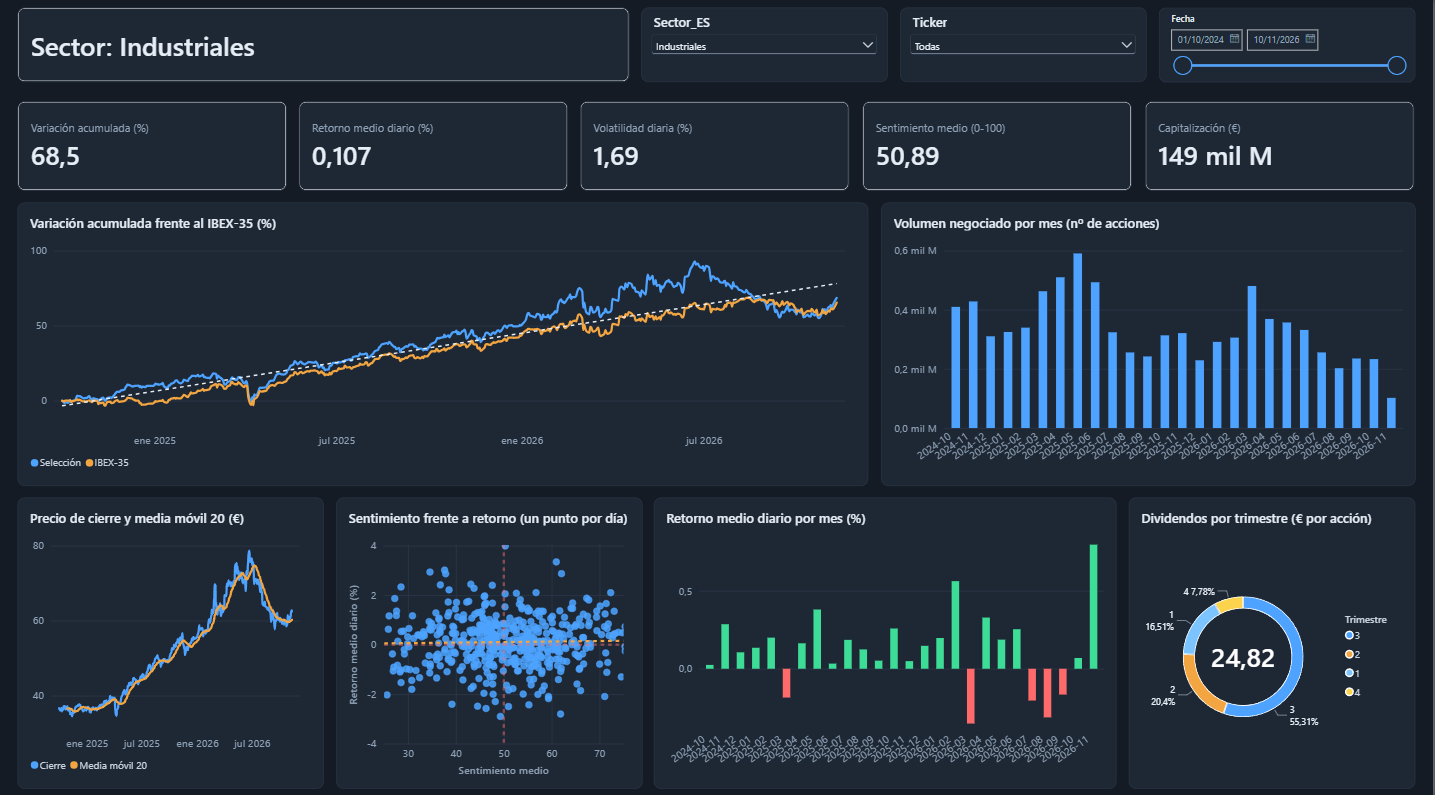

The dashboard page shown, as its layout file describes it:
{"tool":"powerbi","page":{"name":"Dashboard","canvas":[1920,1080],"ordinal":3},"visuals":[{"type":"slicer","fields":{"Values":["Empresa.Sector_ES"]},"box":[753.5,31.4,280.8,68],"z":0},{"type":"slicer","fields":{"Values":["Empresa.Ticker"]},"box":[1055.2,26.2,280.8,80.2],"z":1000},{"type":"slicer","fields":{"Values":["Fecha.Fecha"]},"box":[1360.5,19.2,280.8,95.9],"z":2000},{"type":"cardVisual","fields":{"Data":["Hechos.Variacion Acumulada"]},"box":[36.6,115.1,218,174.4],"z":3000},{"type":"cardVisual","fields":{"Data":["Hechos.Retorno Medio Diario"]},"box":[375,115.1,218,174.4],"z":4000},{"type":"cardVisual","fields":{"Data":["Hechos.Volatilidad Diaria"]},"box":[741.3,115.1,218,174.4],"z":5000},{"type":"cardVisual","fields":{"Data":["Hechos.Sentimiento Medio"]},"box":[1088.4,115.1,218,174.4],"z":6000},{"type":"cardVisual","fields":{"Data":["Hechos.Capitalizacion Total"]},"box":[1447.7,115.1,218,174.4],"z":7000},{"type":"lineChart","fields":{"Category":["Fecha.Fecha"],"Y":["Hechos.Var Acum Seleccion","Hechos.Var Acum IBEX"]},"box":[43.6,314,1058.7,376.7],"z":8000},{"type":"clusteredColumnChart","fields":{"Category":["Fecha.AnioMes"],"Y":["Sum(Hechos.Volume)"]},"box":[1133.7,314,736,376.7],"z":9000},{"type":"lineChart","fields":{"Category":["Fecha.Fecha"],"Y":["Avg(Hechos.Close)","Avg(Hechos.Media_Movil_20)"]},"box":[66.3,711.6,395.9,322.7],"z":10000},{"type":"scatterChart","fields":{"Category":["Fecha.Fecha"],"X":["Hechos.Sentimiento Medio"],"Y":["Hechos.Retorno Medio Diario"]},"box":[462.2,711.6,444.8,322.7],"z":11000},{"type":"clusteredColumnChart","fields":{"Category":["Fecha.AnioMes"],"Y":["Hechos.Retorno Medio Diario"]},"box":[907,711.6,610.5,322.7],"z":12000},{"type":"donutChart","fields":{"Category":["Fecha.Trimestre"],"Y":["Sum(Hechos.Dividends)"]},"box":[1517.4,711.6,385.5,322.7],"z":13000},{"type":"cardVisual","fields":{"Data":["Hechos.Titulo Dashboard"]},"box":[66.3,19.2,556.4,75],"z":13001}]}

Visuals, with their boxes in screenshot pixels (x1, y1, x2, y2), scaled from the page's 1920x1080 canvas onto the 1435x795 screenshot:
slicer - Empresa.Sector_ES: box(563, 23, 773, 73)
slicer - Empresa.Ticker: box(789, 19, 999, 78)
slicer - Fecha.Fecha: box(1017, 14, 1227, 85)
cardVisual - Hechos.Variacion Acumulada: box(27, 85, 190, 213)
cardVisual - Hechos.Retorno Medio Diario: box(280, 85, 443, 213)
cardVisual - Hechos.Volatilidad Diaria: box(554, 85, 717, 213)
cardVisual - Hechos.Sentimiento Medio: box(813, 85, 976, 213)
cardVisual - Hechos.Capitalizacion Total: box(1082, 85, 1245, 213)
lineChart - Fecha.Fecha x Hechos.Var Acum Seleccion: box(33, 231, 824, 508)
clusteredColumnChart - Fecha.AnioMes x Sum(Hechos.Volume): box(847, 231, 1397, 508)
lineChart - Fecha.Fecha x Avg(Hechos.Close): box(50, 524, 345, 761)
scatterChart - Fecha.Fecha x Hechos.Sentimiento Medio: box(345, 524, 678, 761)
clusteredColumnChart - Fecha.AnioMes x Hechos.Retorno Medio Diario: box(678, 524, 1134, 761)
donutChart - Fecha.Trimestre x Sum(Hechos.Dividends): box(1134, 524, 1422, 761)
cardVisual - Hechos.Titulo Dashboard: box(50, 14, 465, 69)
